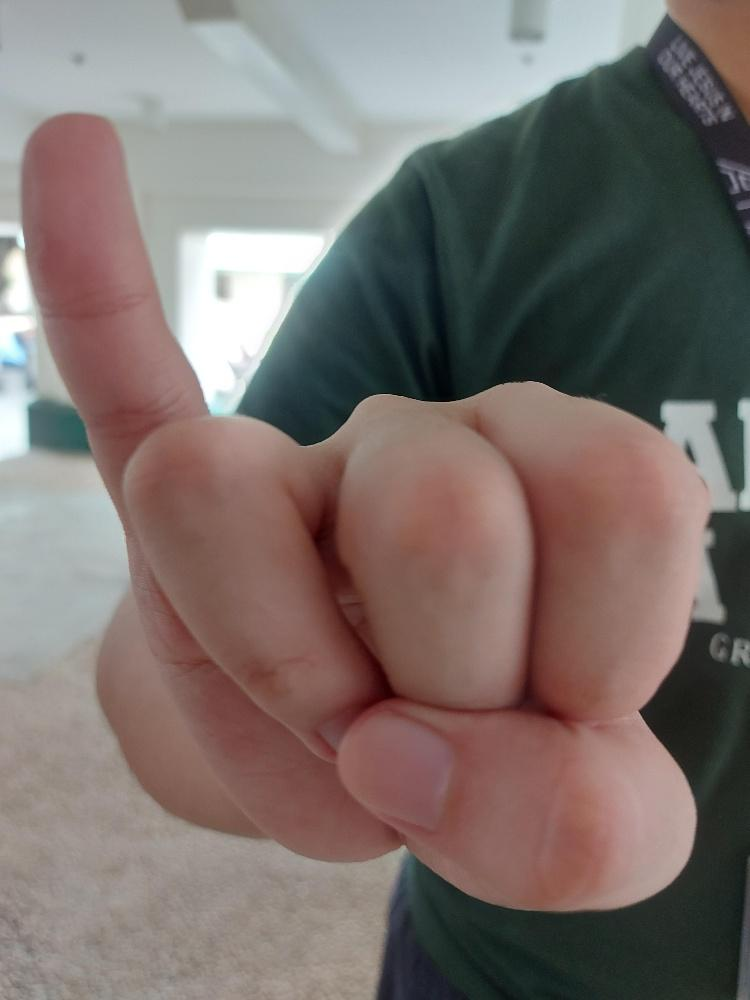i: (16, 109, 706, 916)
